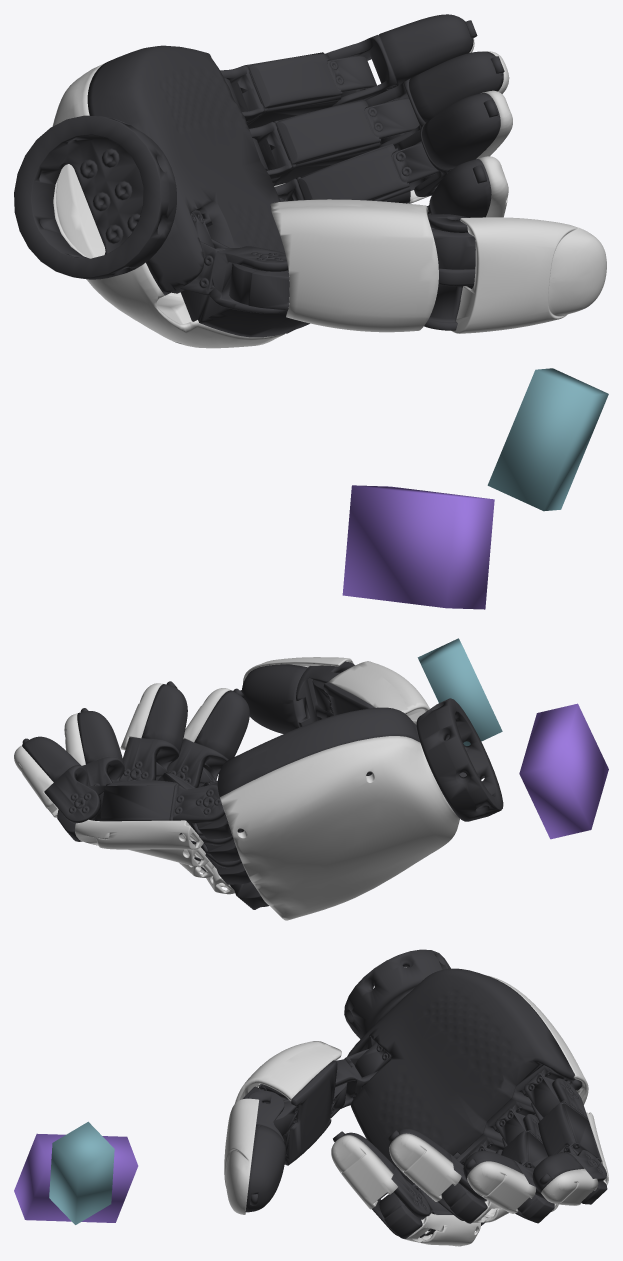
The picture shows the model from 3 angles, top to bottom: view 1: azimuth 30°, elevation 25°; view 2: azimuth 150°, elevation 25°; view 3: azimuth 270°, elevation 25°; orthographic projection. The views are drawn at different scales.
Parts seen in each view (by area): view 1: HAND__008__right_hand_link.STL__material, HAND__028__right_hand_thumb_rotaback_link1.STL__material, OBJECT__00__recorded_box, HAND__029__right_hand_thumb_rotaback_link2.STL__material, OBJECT__01__recorded_box, HAND__000__right_hand_back_link.STL__material, HAND__019__right_hand_ring_link1.STL__material, HAND__014__right_hand_pinky_link1.STL__material, HAND__009__right_hand_mid_link1.STL__material, HAND__015__right_hand_pinky_link2.STL__material, HAND__010__right_hand_mid_link2.STL__material, HAND__020__right_hand_ring_link2.STL__material (+6 smaller); view 2: HAND__000__right_hand_back_link.STL__material, HAND__008__right_hand_link.STL__material, OBJECT__00__recorded_box, HAND__014__right_hand_pinky_link1.STL__material, HAND__026__right_hand_thumb_rota_link2.STL__material, HAND__010__right_hand_mid_link2.STL__material, HAND__004__right_hand_index_rota_link2.STL__material, OBJECT__01__recorded_box, HAND__015__right_hand_pinky_link2.STL__material, HAND__017__right_hand_pinkyback_link1.STL__material, HAND__028__right_hand_thumb_rotaback_link1.STL__material, HAND__020__right_hand_ring_link2.STL__material (+9 smaller); view 3: HAND__008__right_hand_link.STL__material, OBJECT__01__recorded_box, OBJECT__00__recorded_box, HAND__025__right_hand_thumb_rota_link1.STL__material, HAND__014__right_hand_pinky_link1.STL__material, HAND__026__right_hand_thumb_rota_link2.STL__material, HAND__028__right_hand_thumb_rotaback_link1.STL__material, HAND__029__right_hand_thumb_rotaback_link2.STL__material, HAND__013__right_hand_midback_link2.STL__material, HAND__007__right_hand_index_rotaback_link2.STL__material, HAND__023__right_hand_ringback_link2.STL__material, HAND__019__right_hand_ring_link1.STL__material (+11 smaller).
Part boxes in pixels (x1,y1,x2,y2): HAND__008__right_hand_link.STL__material: (14, 45, 303, 337); HAND__028__right_hand_thumb_rotaback_link1.STL__material: (270, 199, 438, 332); OBJECT__00__recorded_box: (342, 485, 494, 609); HAND__029__right_hand_thumb_rotaback_link2.STL__material: (451, 217, 606, 333); OBJECT__01__recorded_box: (487, 368, 608, 511); HAND__000__right_hand_back_link.STL__material: (52, 63, 284, 348); HAND__019__right_hand_ring_link1.STL__material: (249, 98, 419, 185); HAND__014__right_hand_pinky_link1.STL__material: (220, 52, 376, 128); HAND__009__right_hand_mid_link1.STL__material: (274, 142, 438, 203); HAND__015__right_hand_pinky_link2.STL__material: (326, 14, 473, 106); HAND__010__right_hand_mid_link2.STL__material: (397, 93, 500, 196); HAND__020__right_hand_ring_link2.STL__material: (365, 51, 503, 151); HAND__000__right_hand_back_link.STL__material: (220, 736, 459, 920); HAND__008__right_hand_link.STL__material: (196, 698, 503, 884); OBJECT__00__recorded_box: (519, 703, 608, 839); HAND__014__right_hand_pinky_link1.STL__material: (57, 780, 225, 844); HAND__026__right_hand_thumb_rota_link2.STL__material: (241, 661, 355, 733); HAND__010__right_hand_mid_link2.STL__material: (119, 684, 187, 781); HAND__004__right_hand_index_rota_link2.STL__material: (167, 690, 249, 787); OBJECT__01__recorded_box: (417, 638, 502, 745); HAND__015__right_hand_pinky_link2.STL__material: (22, 736, 101, 823); HAND__017__right_hand_pinkyback_link1.STL__material: (75, 819, 203, 849); HAND__028__right_hand_thumb_rotaback_link1.STL__material: (328, 661, 429, 725); HAND__020__right_hand_ring_link2.STL__material: (77, 711, 124, 785); HAND__008__right_hand_link.STL__material: (344, 949, 582, 1184); OBJECT__01__recorded_box: (49, 1121, 114, 1224); OBJECT__00__recorded_box: (14, 1133, 138, 1222); HAND__025__right_hand_thumb_rota_link1.STL__material: (243, 1060, 347, 1165); HAND__014__right_hand_pinky_link1.STL__material: (531, 1078, 607, 1204); HAND__026__right_hand_thumb_rota_link2.STL__material: (245, 1090, 285, 1212); HAND__028__right_hand_thumb_rotaback_link1.STL__material: (235, 1041, 341, 1103); HAND__029__right_hand_thumb_rotaback_link2.STL__material: (224, 1098, 259, 1214); HAND__013__right_hand_midback_link2.STL__material: (389, 1133, 461, 1201); HAND__007__right_hand_index_rotaback_link2.STL__material: (331, 1135, 397, 1209); HAND__023__right_hand_ringback_link2.STL__material: (467, 1161, 535, 1213); HAND__019__right_hand_ring_link1.STL__material: (501, 1114, 554, 1223).
Size of the model in its own units: 0.1909 by 0.1183 by 0.2553.
